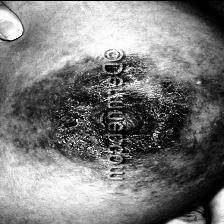Non-Cancerous Skin Condition: (122, 26, 224, 202), (6, 23, 107, 188)
